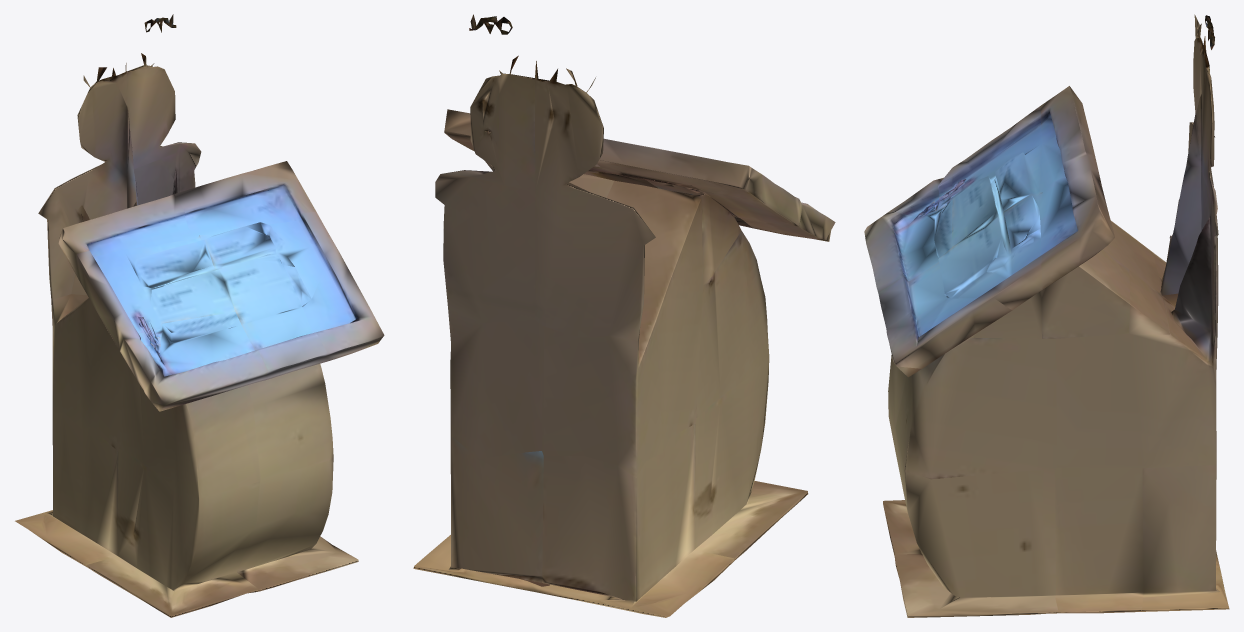
The model's file is technology-04.glb.
The picture shows the model from 3 angles, left to right: view 1: azimuth 30°, elevation 25°; view 2: azimuth 150°, elevation 25°; view 3: azimuth 270°, elevation 25°; orthographic projection. The views are drawn at different scales.
Bounding box in the file's own units: 0.7668 × 1.38 × 0.8237.
1 material, 1 textured.
